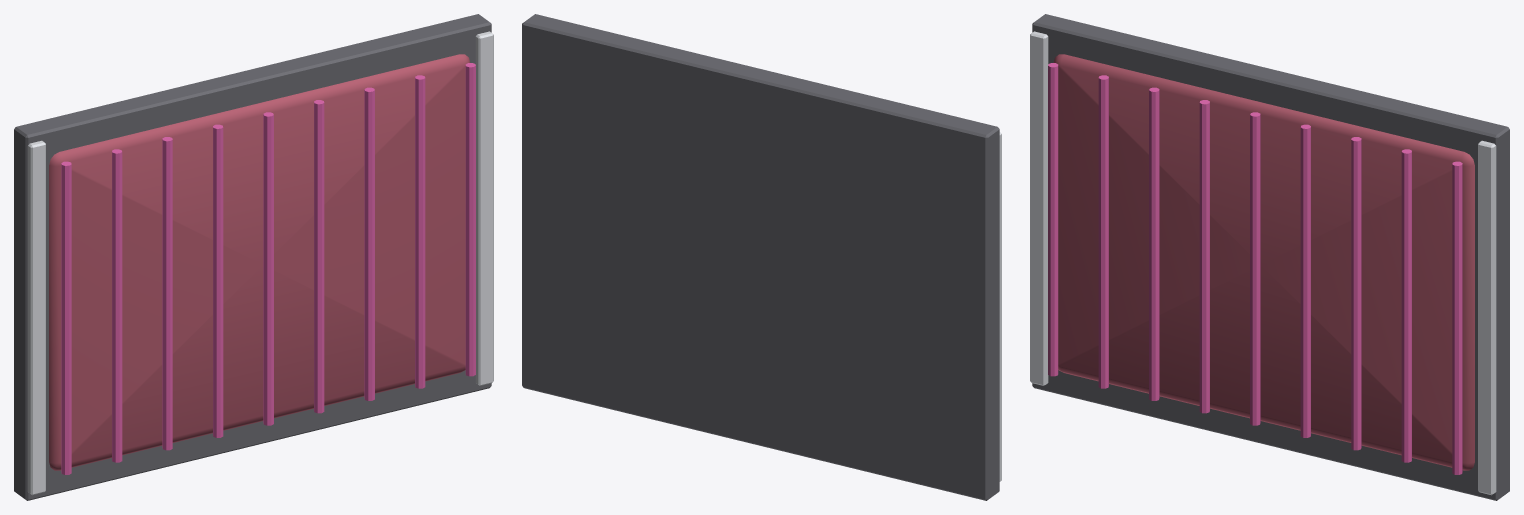
File: nightclub-and-dj-booth-acoustic-wall-panel-29e1e955__34136.glb
3 views of the same model, side by side, from view 1: azimuth 30°, elevation 25°; view 2: azimuth 150°, elevation 25°; view 3: azimuth 330°, elevation 25° (orthographic).
Parts seen in each view (by area): view 1: acoustic-wall-panel; view 2: acoustic-wall-panel; view 3: acoustic-wall-panel.
Part boxes in pixels (x1,y1,x2,y2): acoustic-wall-panel: (14, 14, 493, 500); acoustic-wall-panel: (522, 14, 1001, 500); acoustic-wall-panel: (1030, 14, 1509, 500).
Size of the model in its own units: 1.2 by 0.9 by 0.112.
